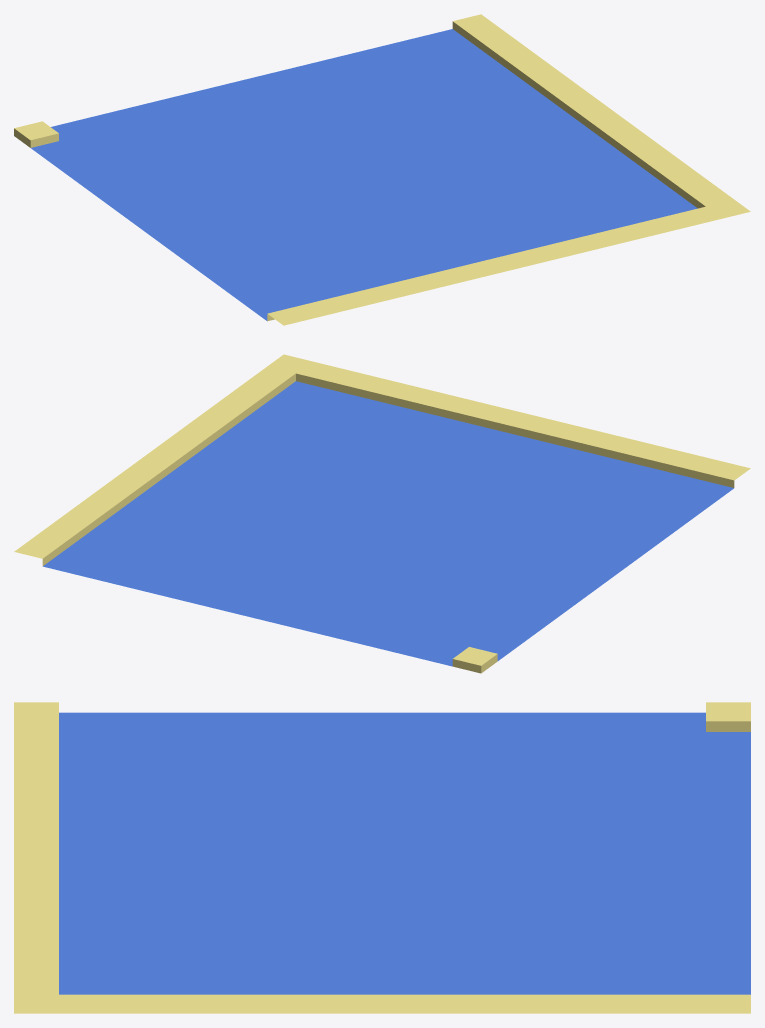
The model's file is water_corner.FBX.
3 views of the same model, one above another, from view 1: azimuth 30°, elevation 25°; view 2: azimuth 150°, elevation 25°; view 3: azimuth 270°, elevation 25° (orthographic). The views are drawn at different scales.
Parts seen in each view (by area): view 1: water_corner; view 2: water_corner; view 3: water_corner.
Boxes of the visible parts, <box> form: water_corner: <box>14,14,750,325</box>; water_corner: <box>14,354,750,673</box>; water_corner: <box>14,702,750,1013</box>.
Size of the model in its own units: 10 by 0.1577 by 10.
